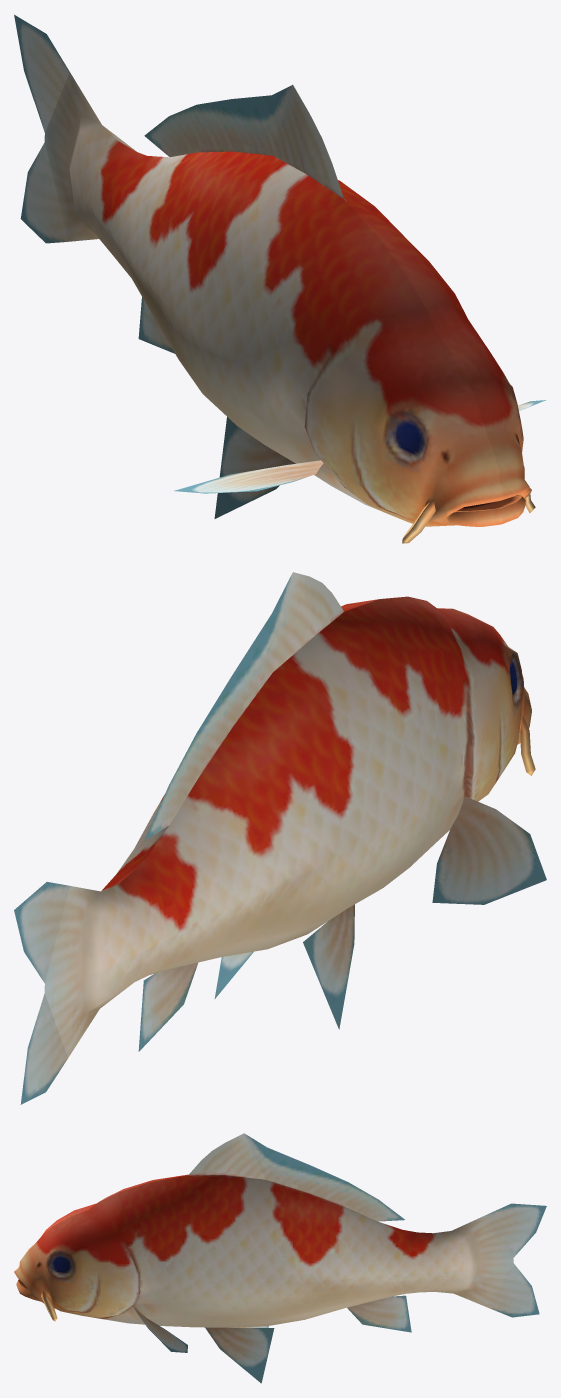
Rendered from Koi.gltf.
The picture shows the model from 3 angles, top to bottom: view 1: azimuth 30°, elevation 25°; view 2: azimuth 150°, elevation 25°; view 3: azimuth 270°, elevation 25°; orthographic projection. The views are drawn at different scales.
Parts seen in each view (by area): view 1: FishNishikigoi__mNishikigoi; view 2: FishNishikigoi__mNishikigoi; view 3: FishNishikigoi__mNishikigoi.
Boxes of the visible parts, x1,y1,x2,y2 form: FishNishikigoi__mNishikigoi: [14, 14, 545, 543]; FishNishikigoi__mNishikigoi: [14, 572, 546, 1104]; FishNishikigoi__mNishikigoi: [14, 1133, 546, 1383].
Bounding box in the file's own units: 3.93 × 4.34 × 8.95.
Materials: 1 (1 with a texture image).
